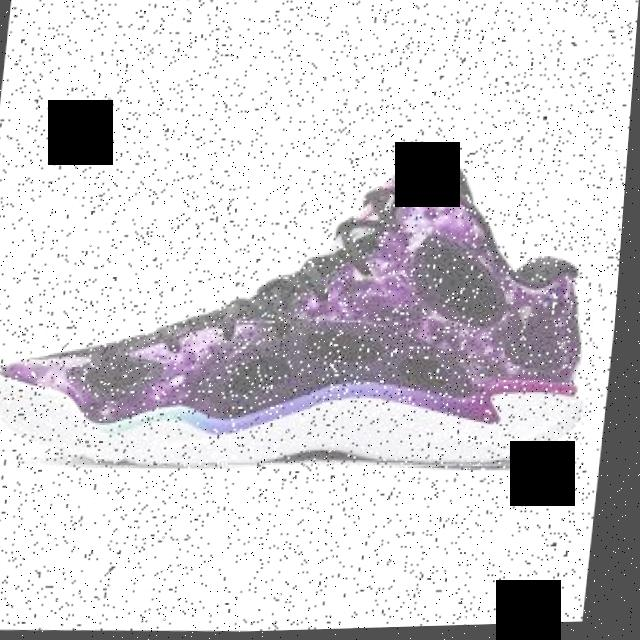shoe: (0, 133, 622, 488)
